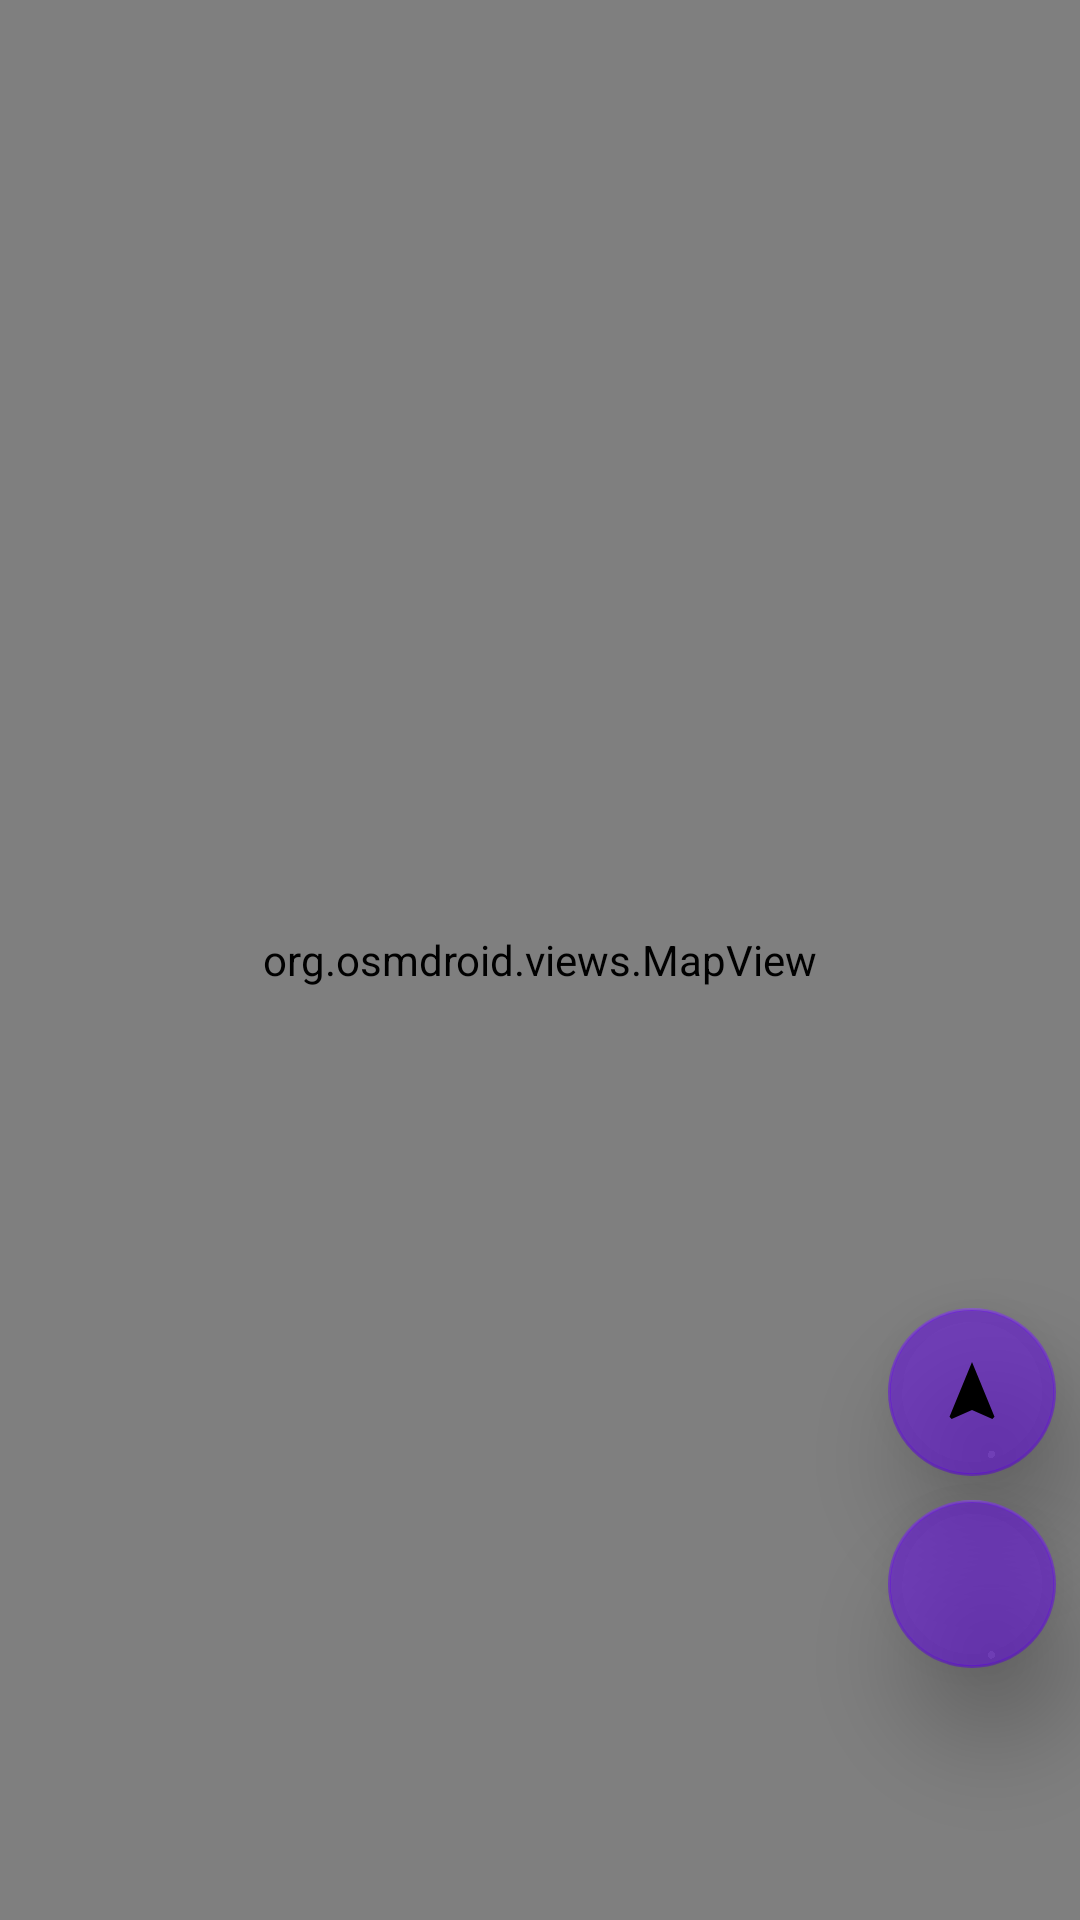

Named icons in this screenshot (1080px x 1920px) and their centers, (x,y):
navme: (972,1392)
